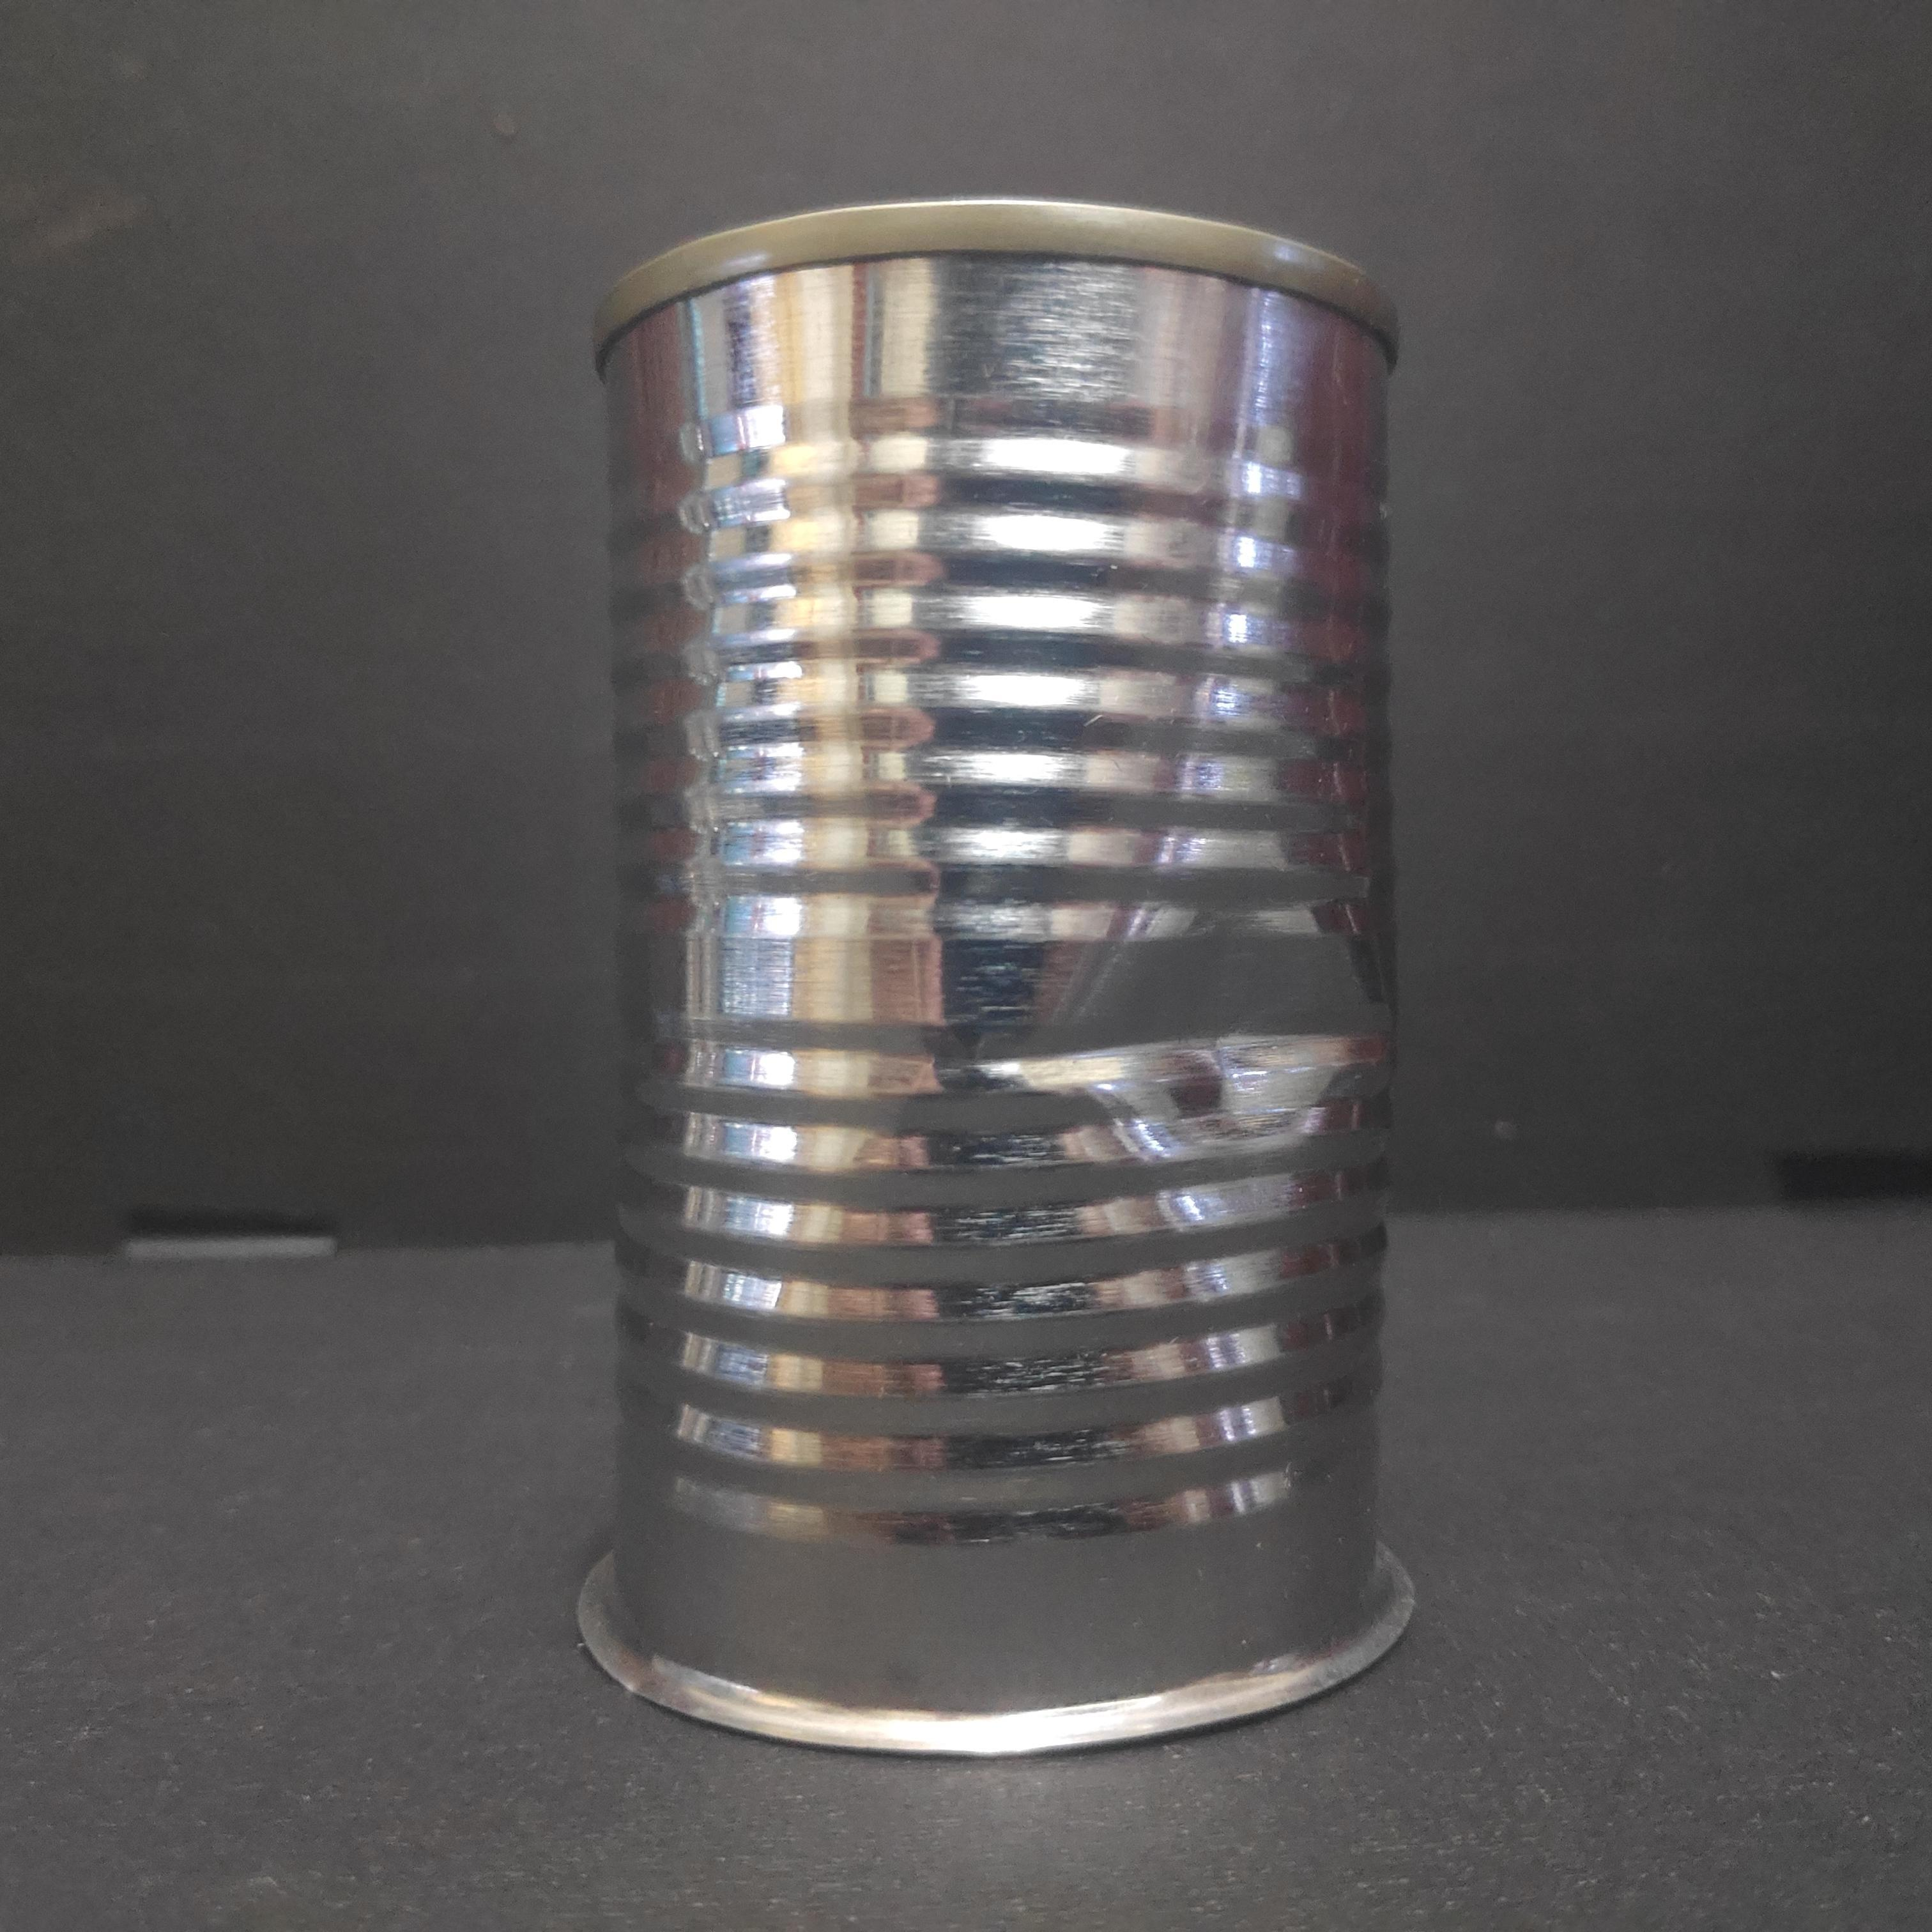Dented: (552, 170, 1435, 1812)
